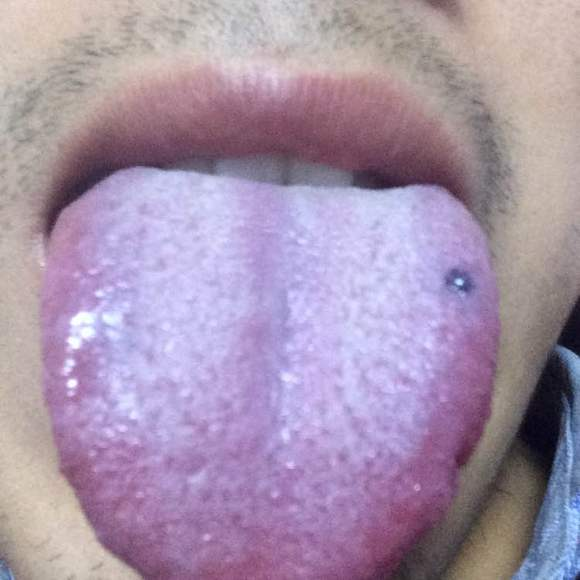baitaishe: (41, 165, 497, 580)
pangdashe: (41, 165, 497, 580)
zishe: (41, 165, 497, 580)
